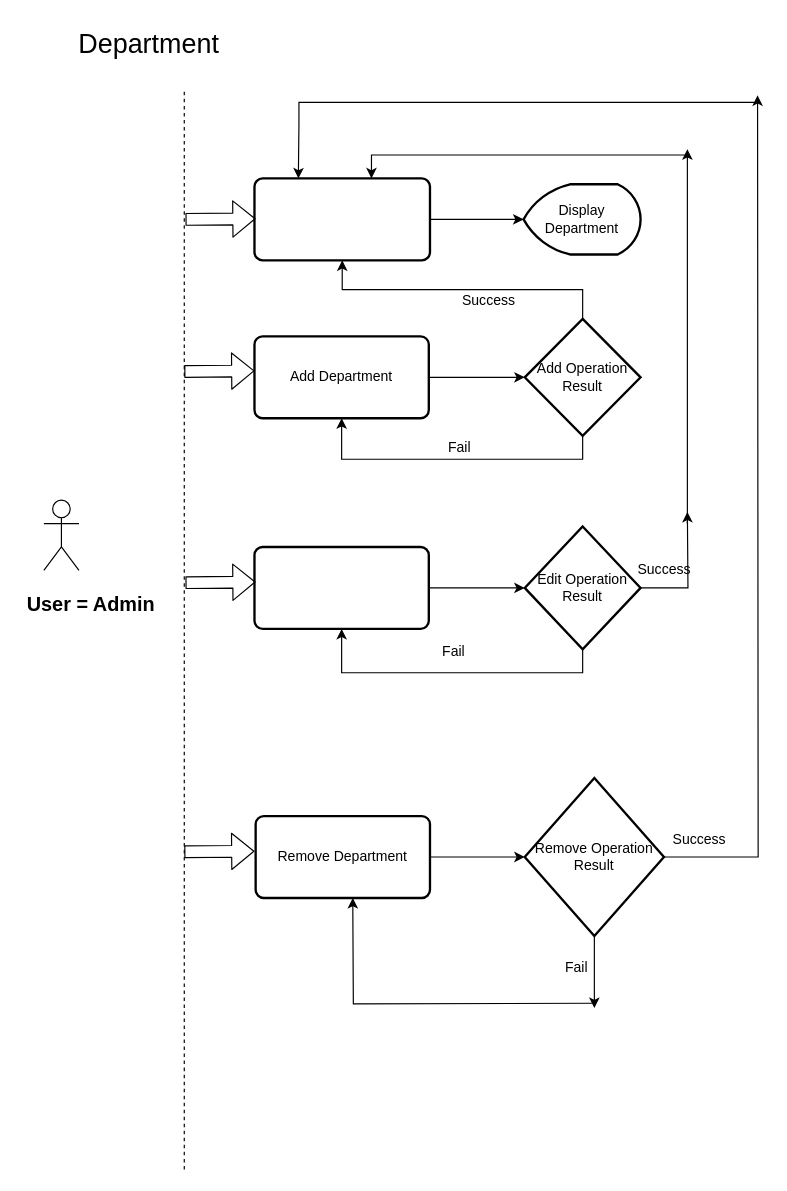
This 787x1191 diagram has some shape labels left out. The box of each missing label's shape, as (x1, y1, x2, y2) in pixels:
Actor: (43, 499, 79, 570)
Edit Department: (253, 545, 429, 629)
View Department: (253, 177, 431, 261)
